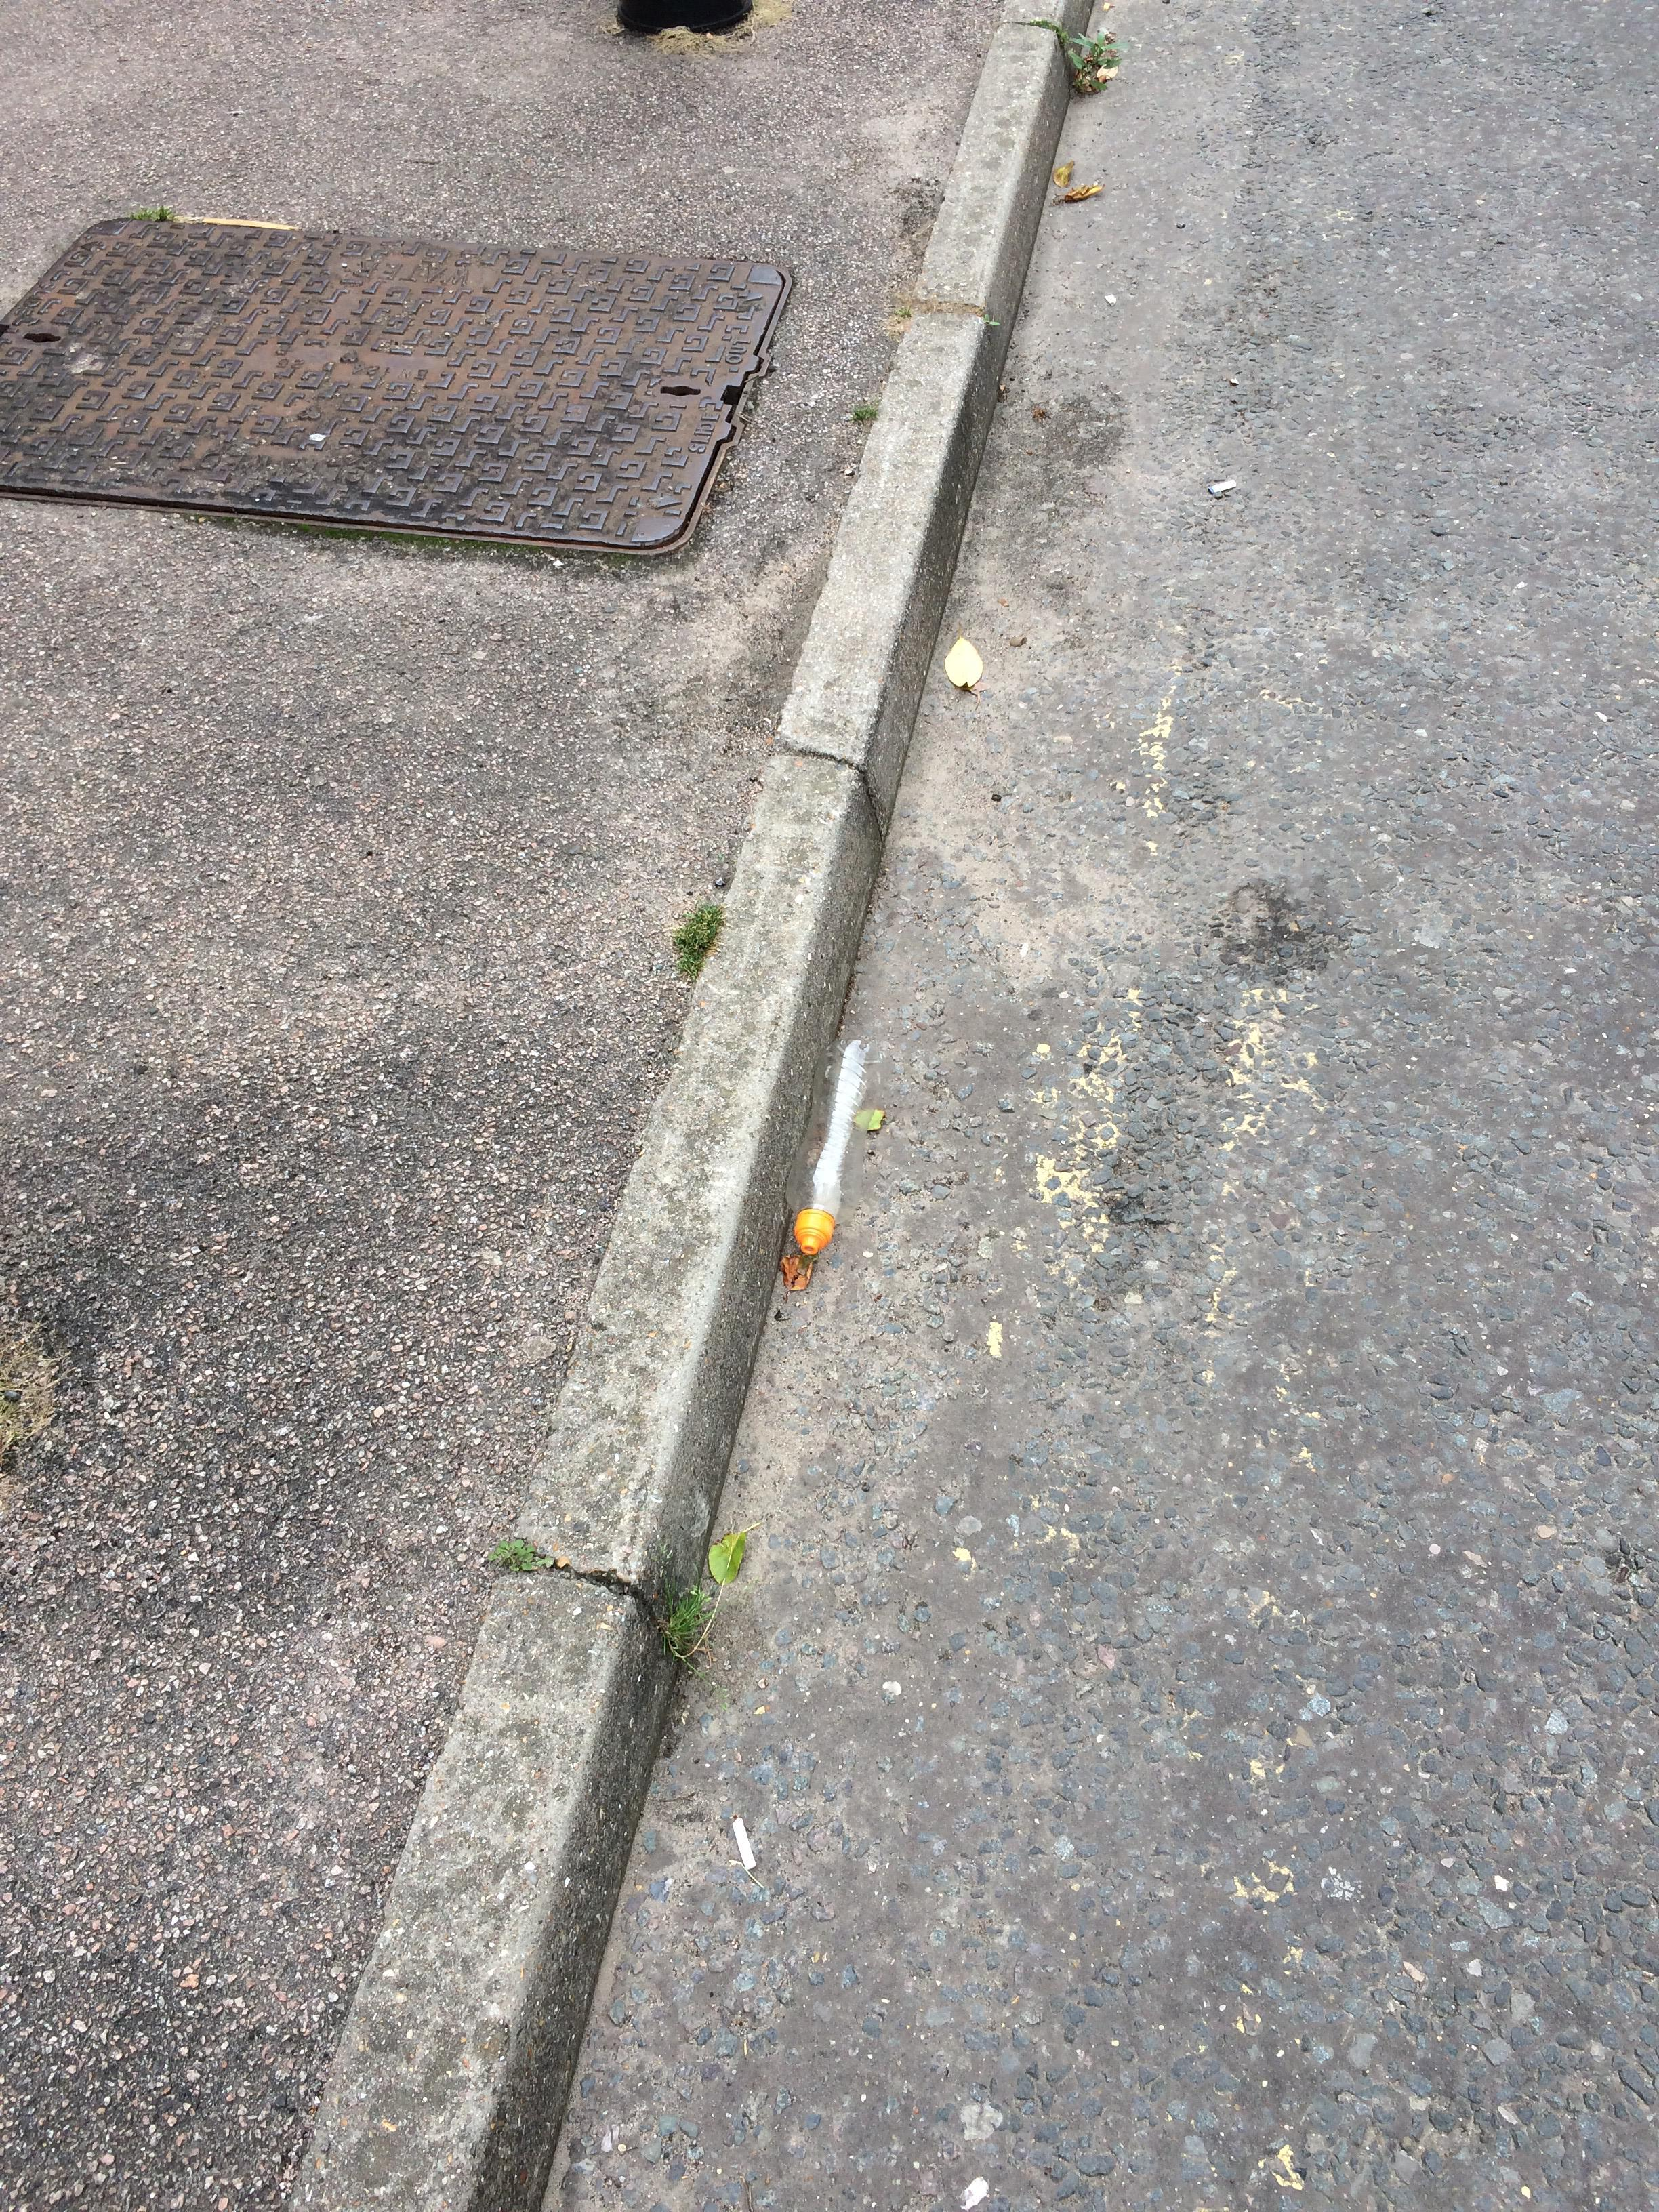Trash: (781, 1033, 882, 1273)
